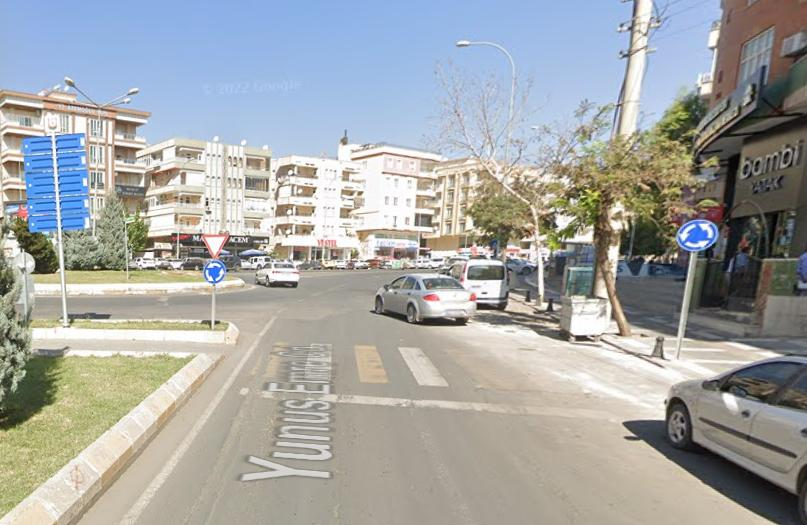crossroads: (676, 218, 719, 252), (204, 261, 228, 283)
